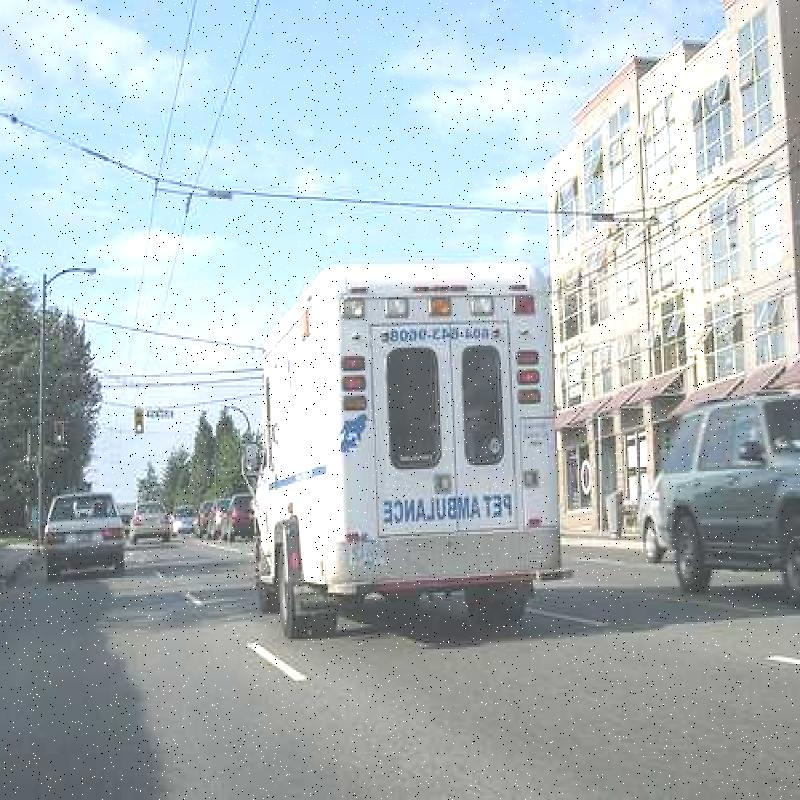AmbulanceSiren: (334, 282, 540, 344)
